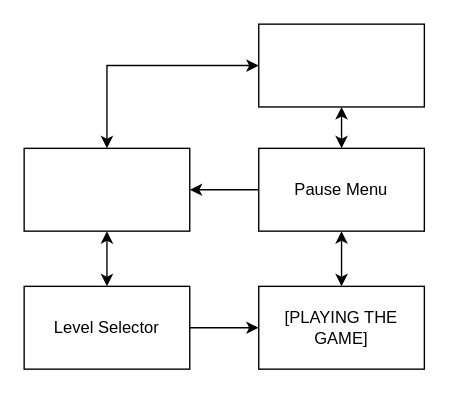
This 449x393 diagram has some shape labels left out. Here are the shapes that lost their labels. From the top down, the centre of each, then its label:
At [340,65]: "Options".
At [106,189]: "Main Menu".
